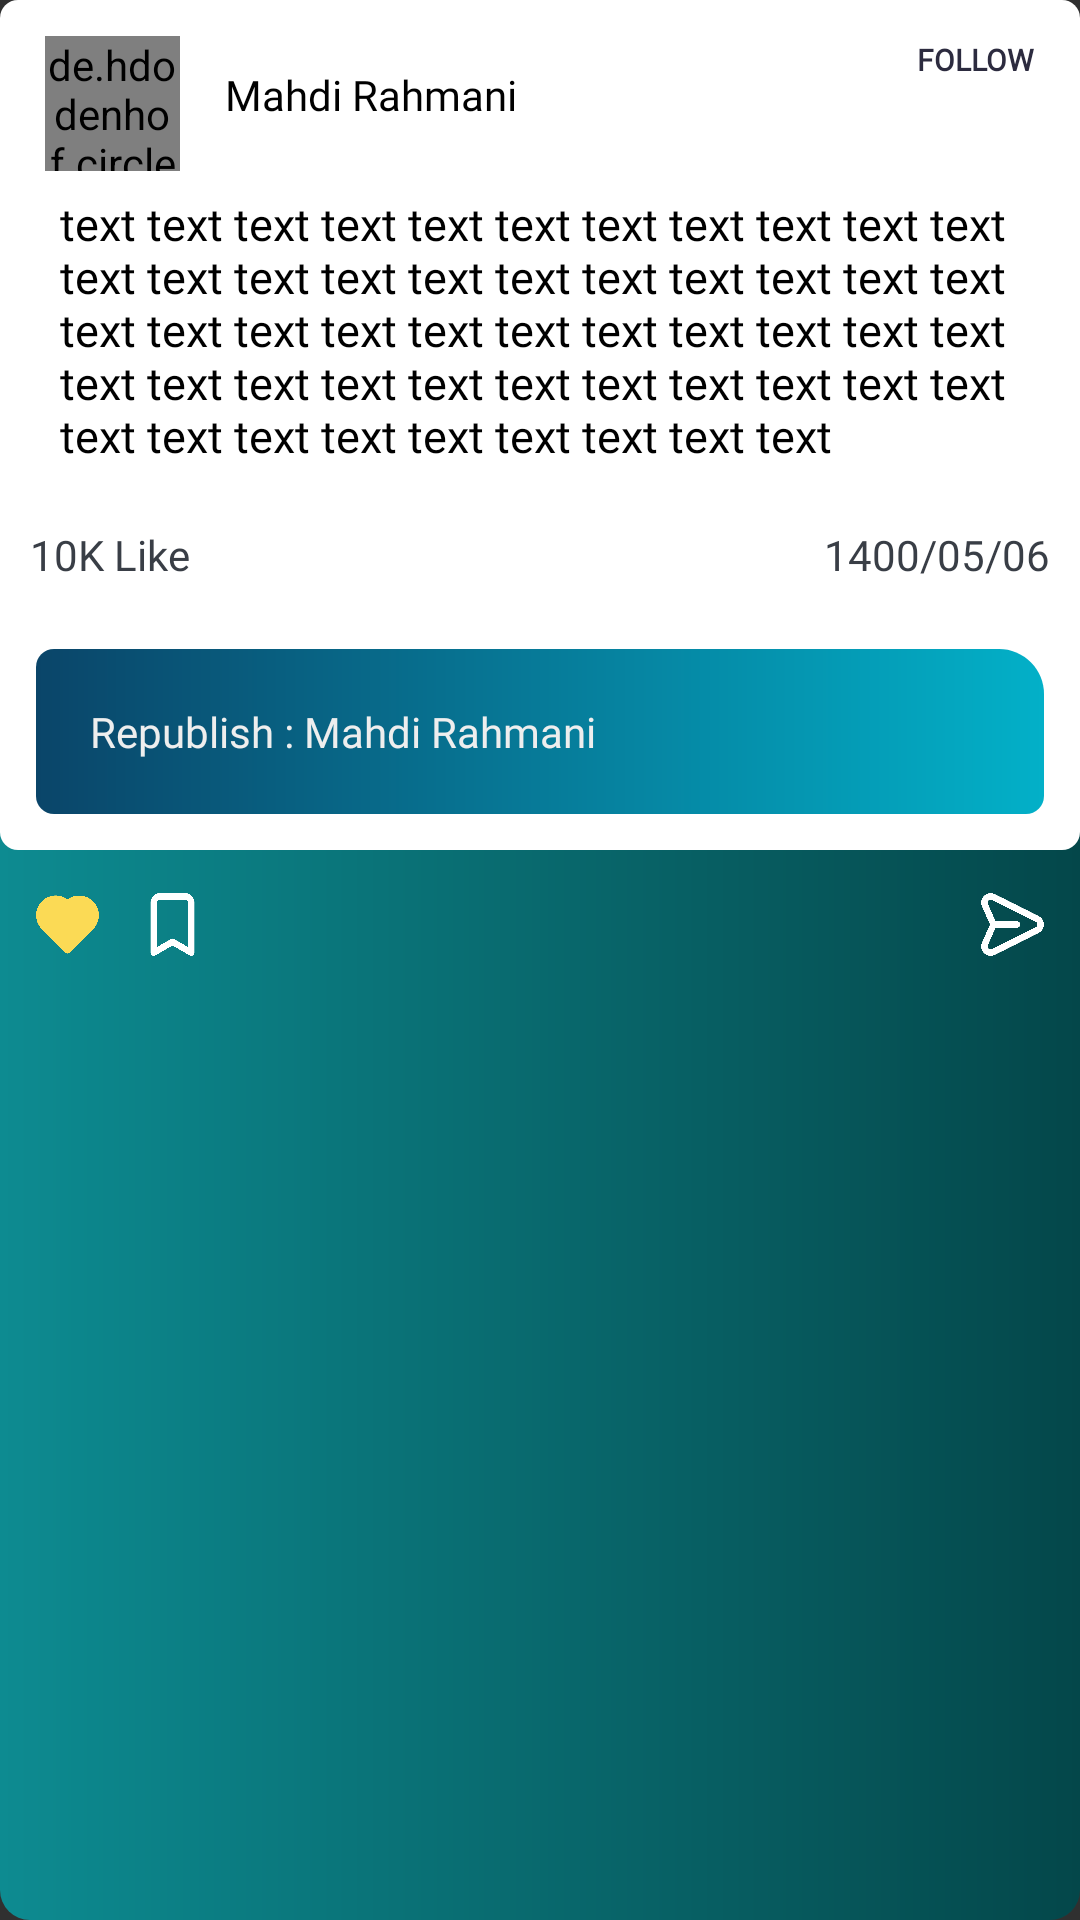

Where to tap for icons on this 1080px×1920px app screen, as point (x, y):
is like: point (67, 924)
paper plane: point (1012, 924)
